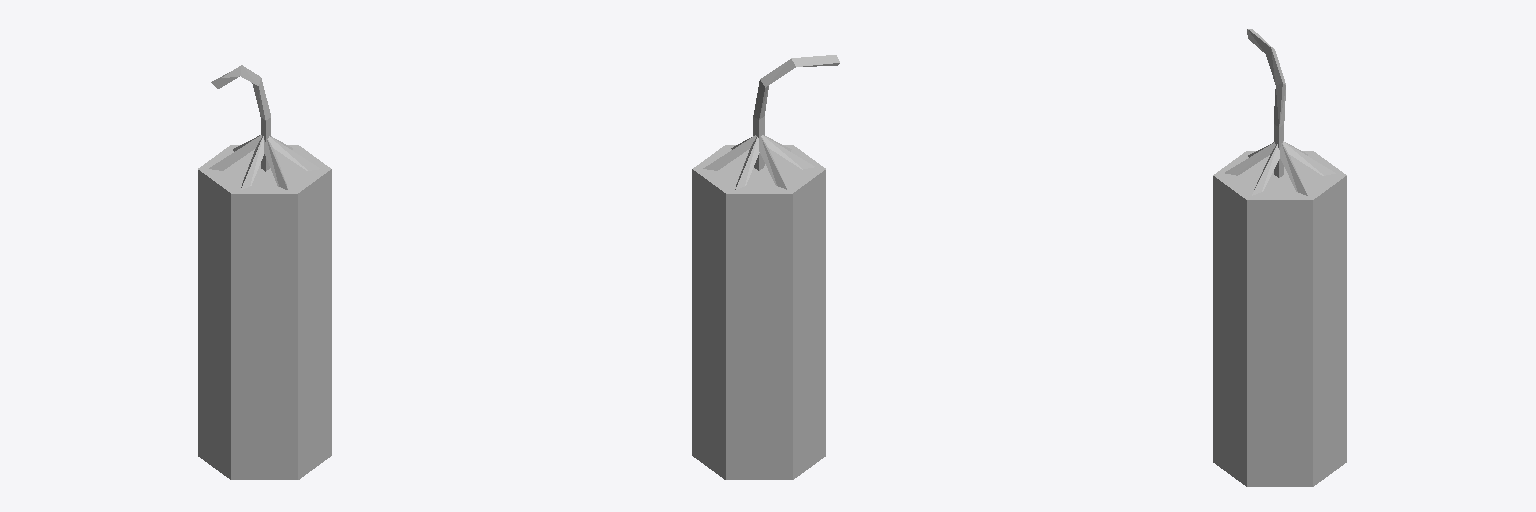
File: Dynamite.obj
3 renders of one model, left to right at view 1: azimuth 30°, elevation 25°; view 2: azimuth 150°, elevation 25°; view 3: azimuth 270°, elevation 25°, orthographic.
Parts seen in each view (by area): view 1: Cylinder.007_Cylinder.014; view 2: Cylinder.007_Cylinder.014; view 3: Cylinder.007_Cylinder.014.
Part boxes in pixels (bbox=[...]): Cylinder.007_Cylinder.014: bbox=[198, 65, 331, 479]; Cylinder.007_Cylinder.014: bbox=[692, 55, 839, 479]; Cylinder.007_Cylinder.014: bbox=[1213, 29, 1346, 486].
Size of the model in its own units: 9.19 by 30.14 by 9.05.